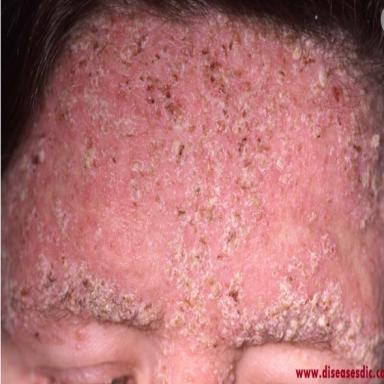Darier_s-Disease: (0, 15, 380, 384)
